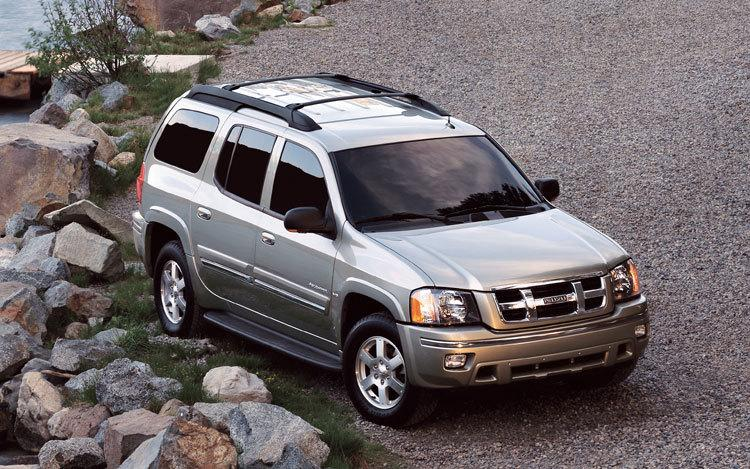car: (134, 72, 650, 421)
